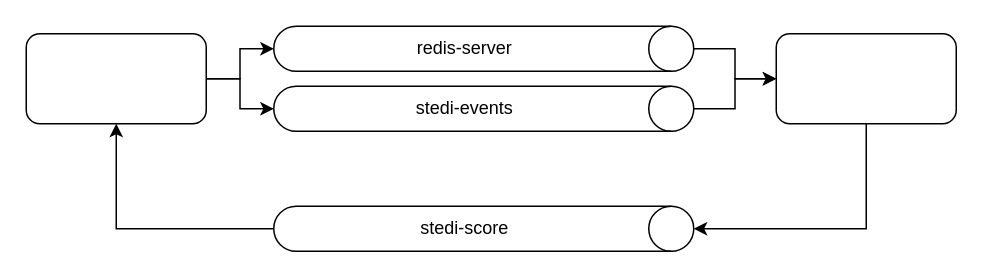
Some shapes in this 983 by 278 pixel diagram are drawn without their labels. Each missing label, with the centre of its shape:
"Spark Cluster" goes at point 865,78.
"STEDI App" goes at point 115,78.
